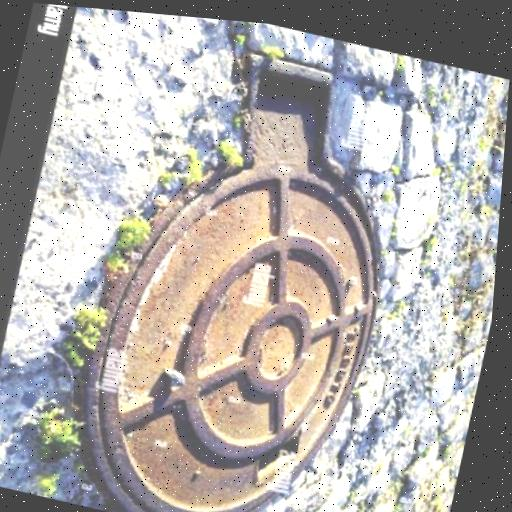corrosion: (59, 131, 408, 512)
